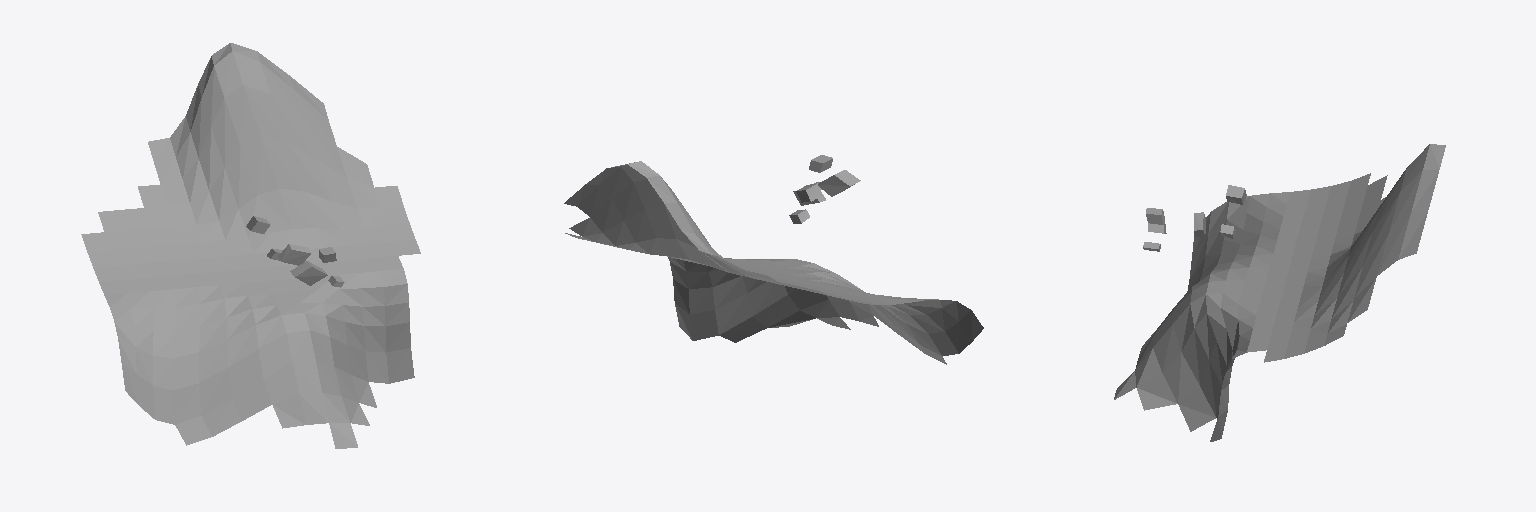
Rendered from cubey2.obj.
The picture shows the model from 3 angles: view 1: azimuth 30°, elevation 25°; view 2: azimuth 150°, elevation 25°; view 3: azimuth 270°, elevation 25°; orthographic projection.
Parts seen in each view (by area): view 1: Cube; view 2: Cube; view 3: Cube.
Boxes of the visible parts, x1=… form: Cube: x1=81, y1=43, x2=420, y2=448; Cube: x1=564, y1=155, x2=983, y2=364; Cube: x1=1114, y1=144, x2=1445, y2=441.
Bounding box in the file's own units: 4.73 × 3.61 × 3.93.